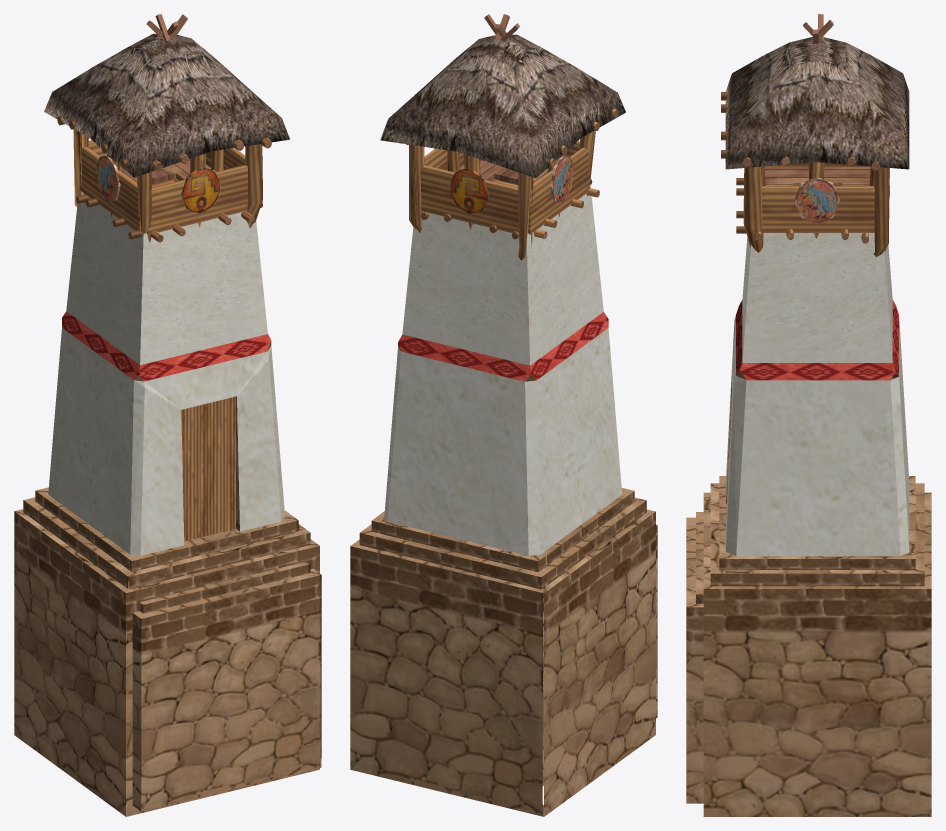
Rendered from city_tower.dae.
3 renders of one model, left to right at view 1: azimuth 30°, elevation 25°; view 2: azimuth 150°, elevation 25°; view 3: azimuth 270°, elevation 25°, orthographic.
Parts seen in each view (by area): view 1: TowerCity; view 2: TowerCity; view 3: TowerCity.
Part boxes in pixels (x1,y1,x2,y2): TowerCity: (14,14,321,816); TowerCity: (350,14,657,816); TowerCity: (686,14,931,816).
Size of the model in its own units: 7.64 by 8.22 by 27.65.
